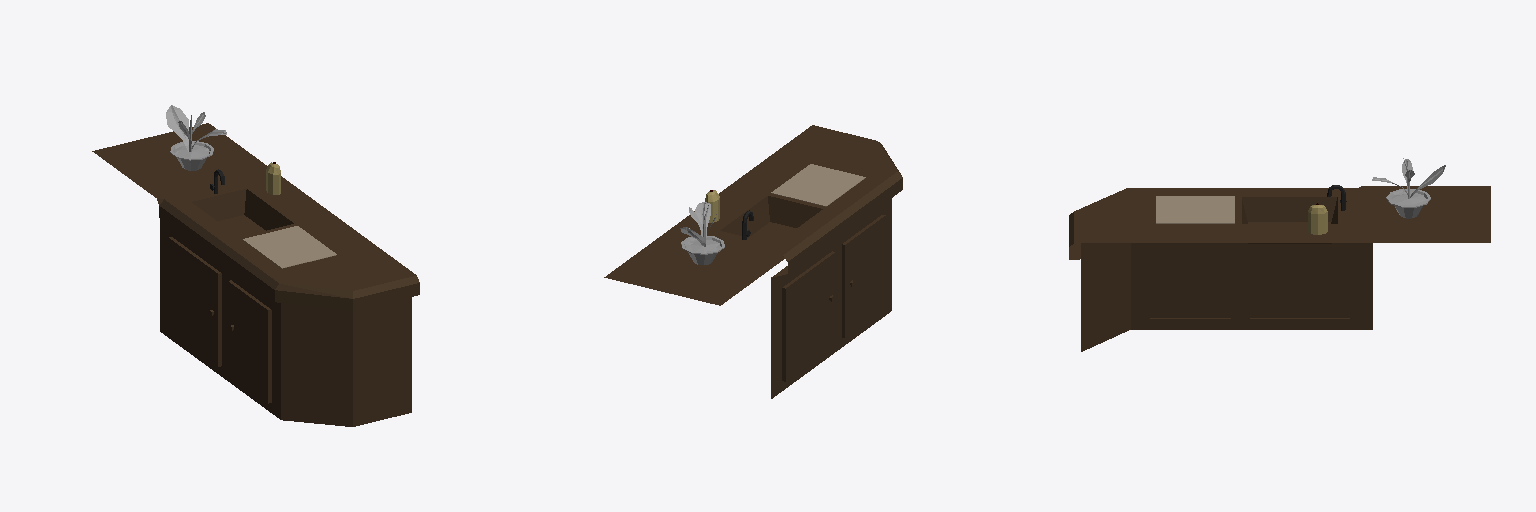
Rendered from encimera.obj.
The picture shows the model from 3 angles: view 1: azimuth 30°, elevation 25°; view 2: azimuth 150°, elevation 25°; view 3: azimuth 270°, elevation 25°; orthographic projection.
Parts seen in each view (by area): view 1: Worktop_Plane.007, Drying_mat_Plane.012, Plant_Circle.002; view 2: Worktop_Plane.007, Drying_mat_Plane.012, Plant_Circle.002; view 3: Worktop_Plane.007, Drying_mat_Plane.012, Plant_Circle.002, Rinse_agent_Circle.015.
Part boxes in pixels (x1,y1,x2,y2): Worktop_Plane.007: (92,123,419,426); Drying_mat_Plane.012: (242,226,336,268); Plant_Circle.002: (166,105,226,170); Worktop_Plane.007: (604,125,902,398); Drying_mat_Plane.012: (771,164,865,206); Plant_Circle.002: (680,202,724,264); Worktop_Plane.007: (1069,186,1490,351); Drying_mat_Plane.012: (1156,196,1234,223); Plant_Circle.002: (1372,158,1445,218); Rinse_agent_Circle.015: (1308,203,1327,234).
Size of the model in its own units: 7 by 11.22 by 22.